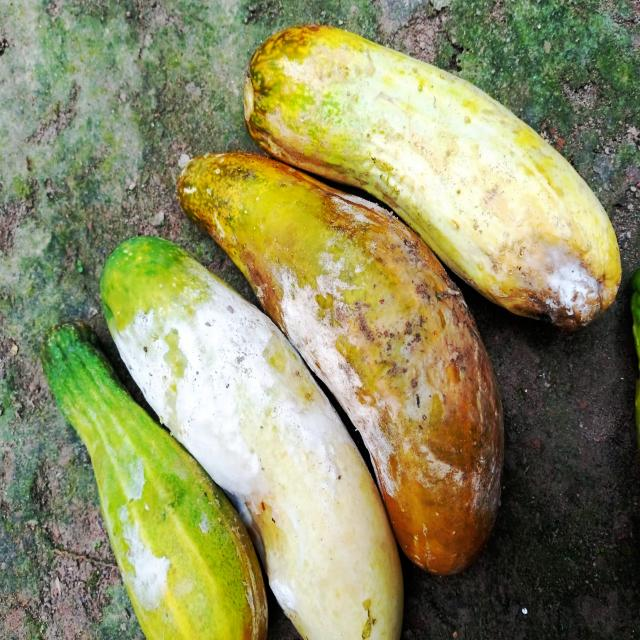Pythium-Fruit-Rot: (111, 275, 356, 619), (278, 188, 506, 512), (492, 214, 612, 340), (111, 452, 182, 613)
